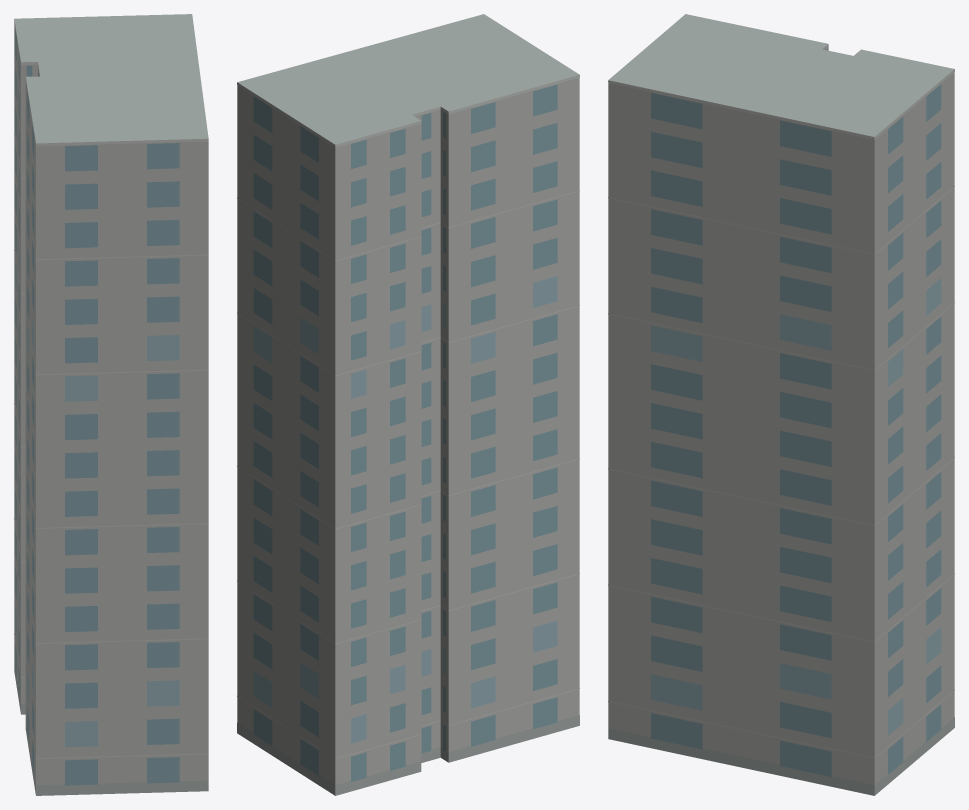
The model's file is survey-upis-32892301.glb.
The picture shows the model from 3 angles, left to right: view 1: azimuth 30°, elevation 25°; view 2: azimuth 150°, elevation 25°; view 3: azimuth 270°, elevation 25°; orthographic projection.
Visible parts, largest first — view 1: survey-upis-32892301.tmp; view 2: survey-upis-32892301.tmp; view 3: survey-upis-32892301.tmp.
Part boxes in pixels (x1,y1,x2,y2): survey-upis-32892301.tmp: (14,14,208,795); survey-upis-32892301.tmp: (237,14,579,795); survey-upis-32892301.tmp: (608,14,954,795).
Bounding box in the file's own units: 22.06 × 55 × 26.24.
